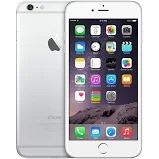iphone: (62, 1, 143, 159)
iphone6: (61, 1, 142, 159)
